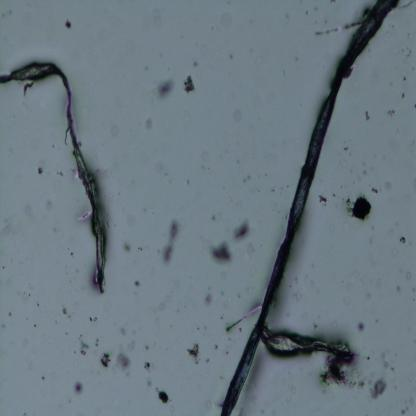Background material: (322, 353, 353, 387), (221, 300, 252, 334), (160, 218, 180, 262), (376, 344, 398, 378), (312, 22, 354, 36), (211, 239, 234, 264), (352, 195, 372, 223), (354, 349, 366, 391), (233, 218, 252, 240), (156, 77, 175, 99), (368, 378, 388, 398), (78, 306, 99, 324), (116, 350, 130, 370), (315, 189, 329, 209), (156, 387, 170, 405), (187, 342, 201, 360), (183, 74, 195, 93), (64, 14, 74, 36), (100, 349, 110, 368), (79, 340, 90, 357), (61, 306, 74, 320), (403, 267, 413, 282), (204, 293, 214, 308), (365, 103, 372, 124), (386, 105, 396, 119), (74, 380, 84, 394), (142, 361, 152, 374), (368, 186, 380, 196), (358, 320, 366, 335), (400, 232, 408, 246), (384, 182, 394, 193), (144, 119, 153, 130), (399, 72, 407, 84), (192, 57, 200, 69), (243, 174, 252, 184), (131, 280, 143, 287), (35, 166, 44, 175), (213, 340, 220, 350), (138, 244, 143, 256), (124, 243, 130, 252), (342, 146, 349, 152), (70, 253, 76, 259), (401, 91, 406, 98)
Cellulose filter fibre: (0, 61, 109, 293), (263, 329, 356, 365)
Cotton: (214, 0, 401, 416)
